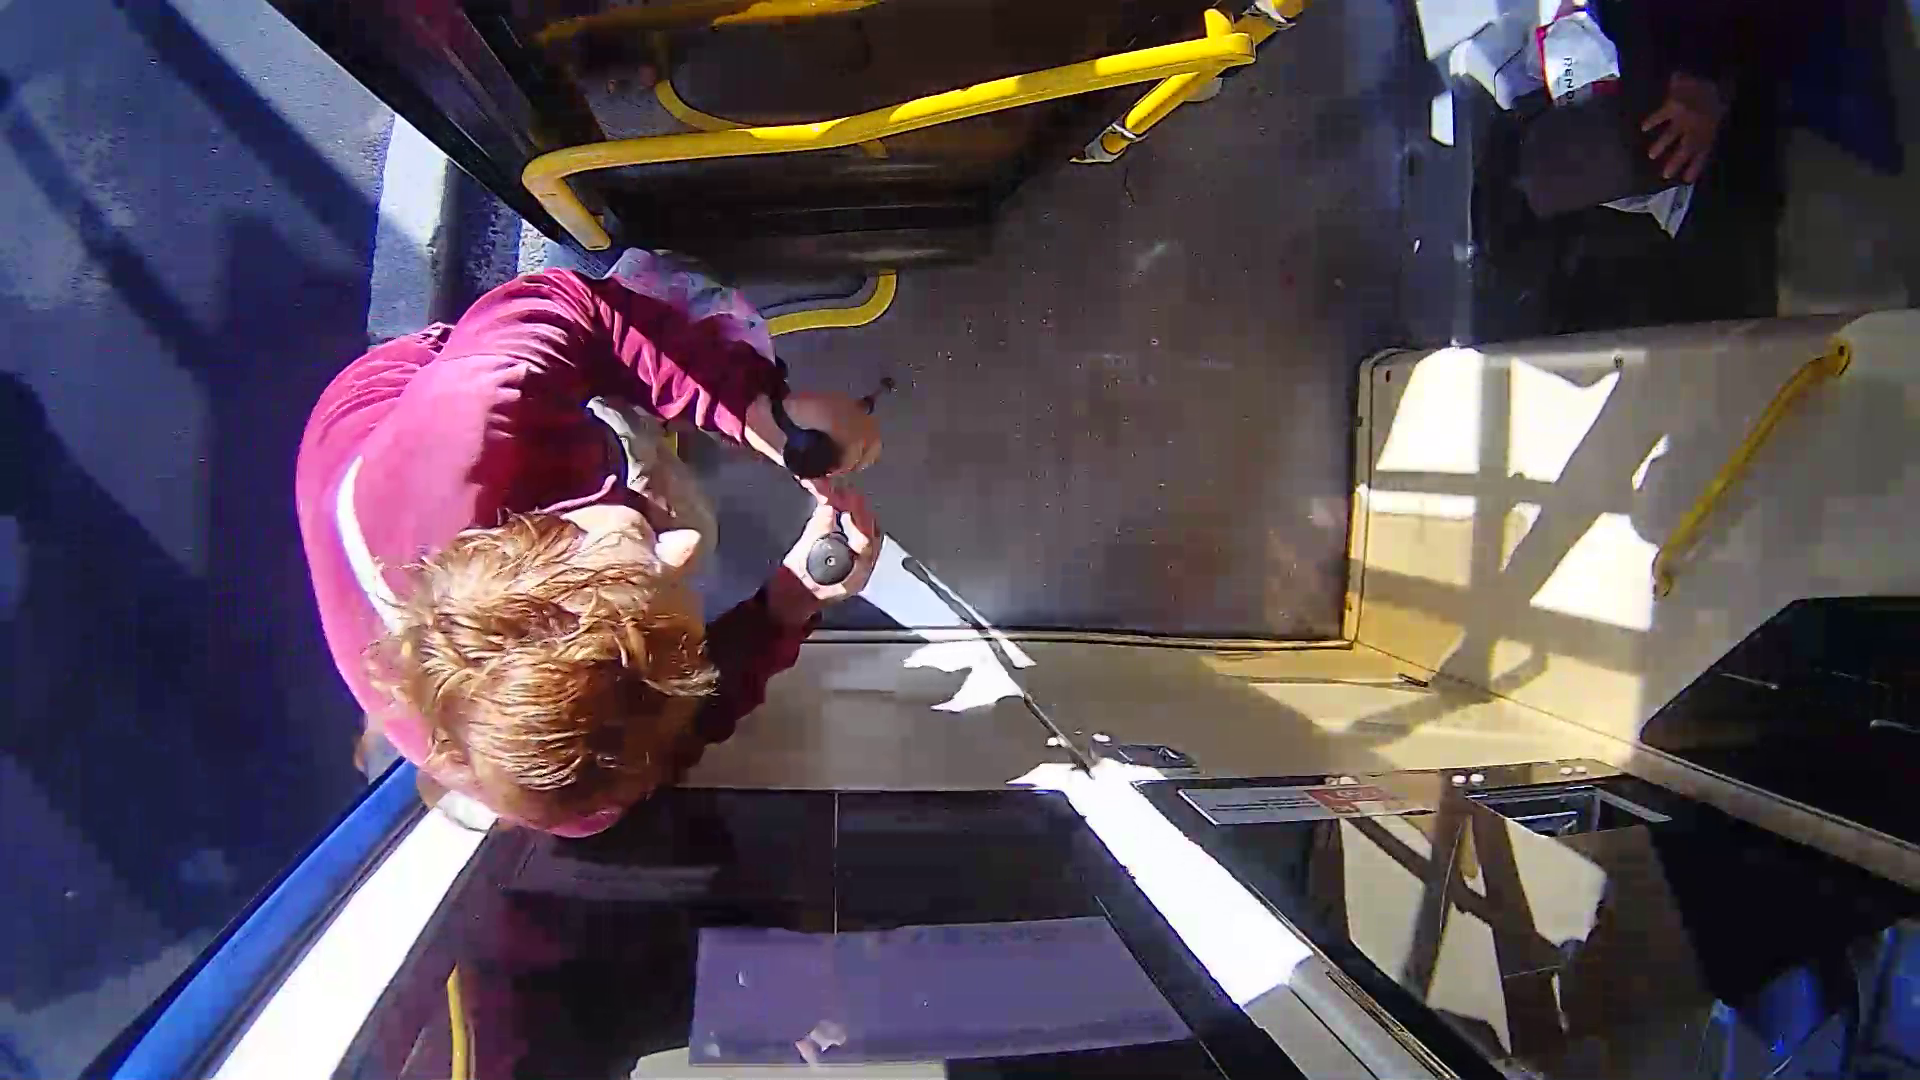person: (252, 253, 975, 869)
